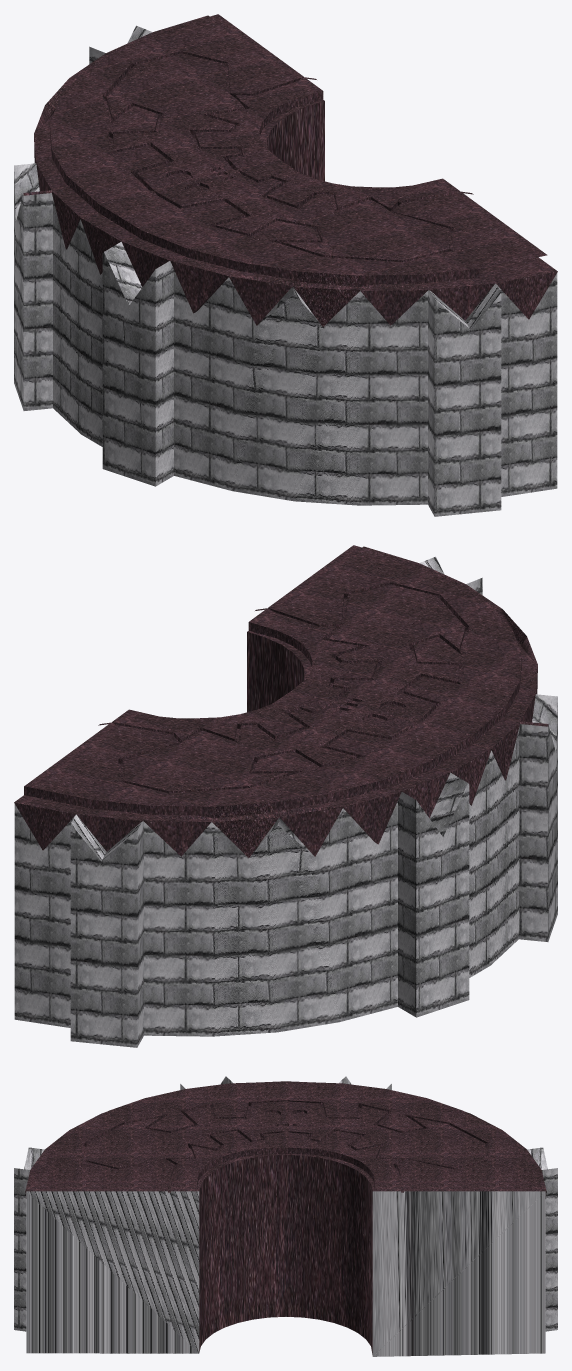
File: BOSS中間平台(一半).FBX
3 renders of one model, top to bottom at view 1: azimuth 30°, elevation 25°; view 2: azimuth 150°, elevation 25°; view 3: azimuth 270°, elevation 25°, orthographic. The views are drawn at different scales.
Parts seen in each view (by area): view 1: Cylinder002; view 2: Cylinder002; view 3: Cylinder002.
Part boxes in pixels (bbox=[...]): Cylinder002: bbox=[14, 14, 557, 516]; Cylinder002: bbox=[14, 545, 557, 1047]; Cylinder002: bbox=[14, 1076, 557, 1356].
Bounding box in the file's own units: 212 × 141 × 405.
Materials: 3 (2 with a texture image).
